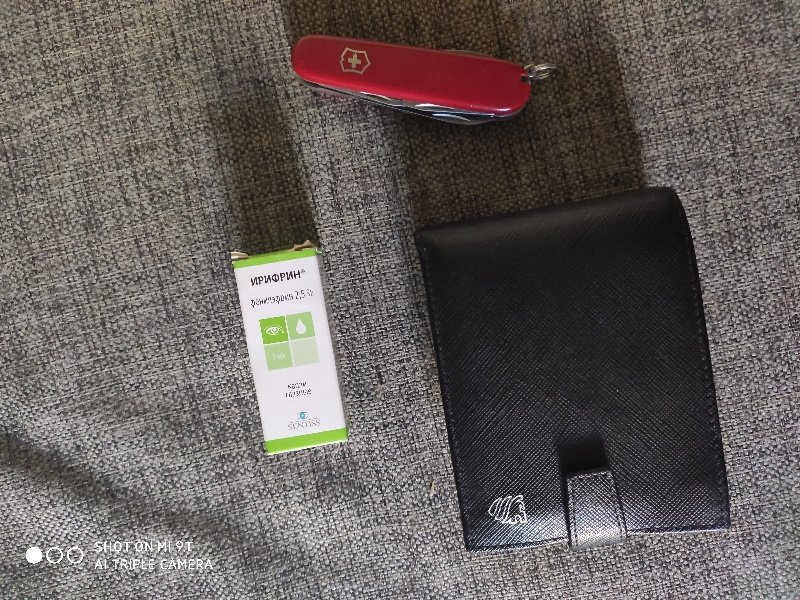ifrin: (218, 235, 358, 468)
knife: (288, 25, 551, 121)
wallet: (425, 181, 738, 555)
